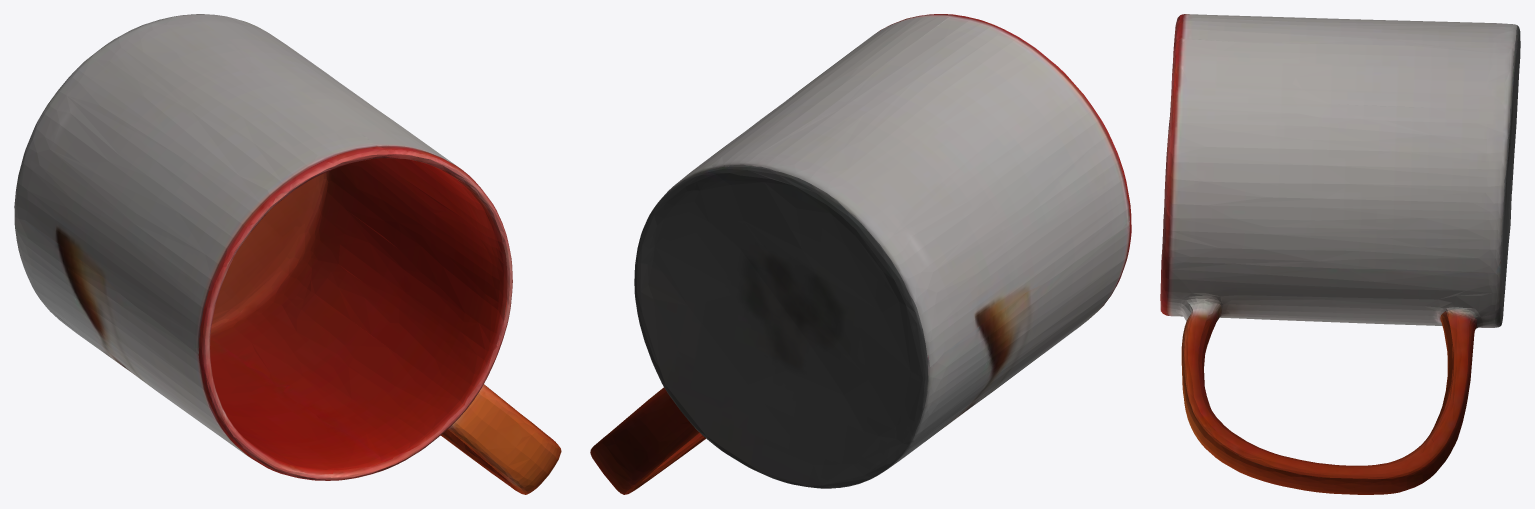
File: mug8.glb
The picture shows the model from 3 angles, left to right: view 1: azimuth 30°, elevation 25°; view 2: azimuth 150°, elevation 25°; view 3: azimuth 270°, elevation 25°; orthographic projection. The views are drawn at different scales.
Visible parts, largest first — view 1: geometry_0; view 2: geometry_0; view 3: geometry_0.
Part boxes in pixels (box(x1,y1,x2,y2)): geometry_0: box(14, 14, 561, 494); geometry_0: box(590, 14, 1131, 494); geometry_0: box(1160, 14, 1520, 494).
Bounding box in the file's own units: 0.0917 × 0.093 × 0.081.
Materials: 1 (1 with a texture image).
